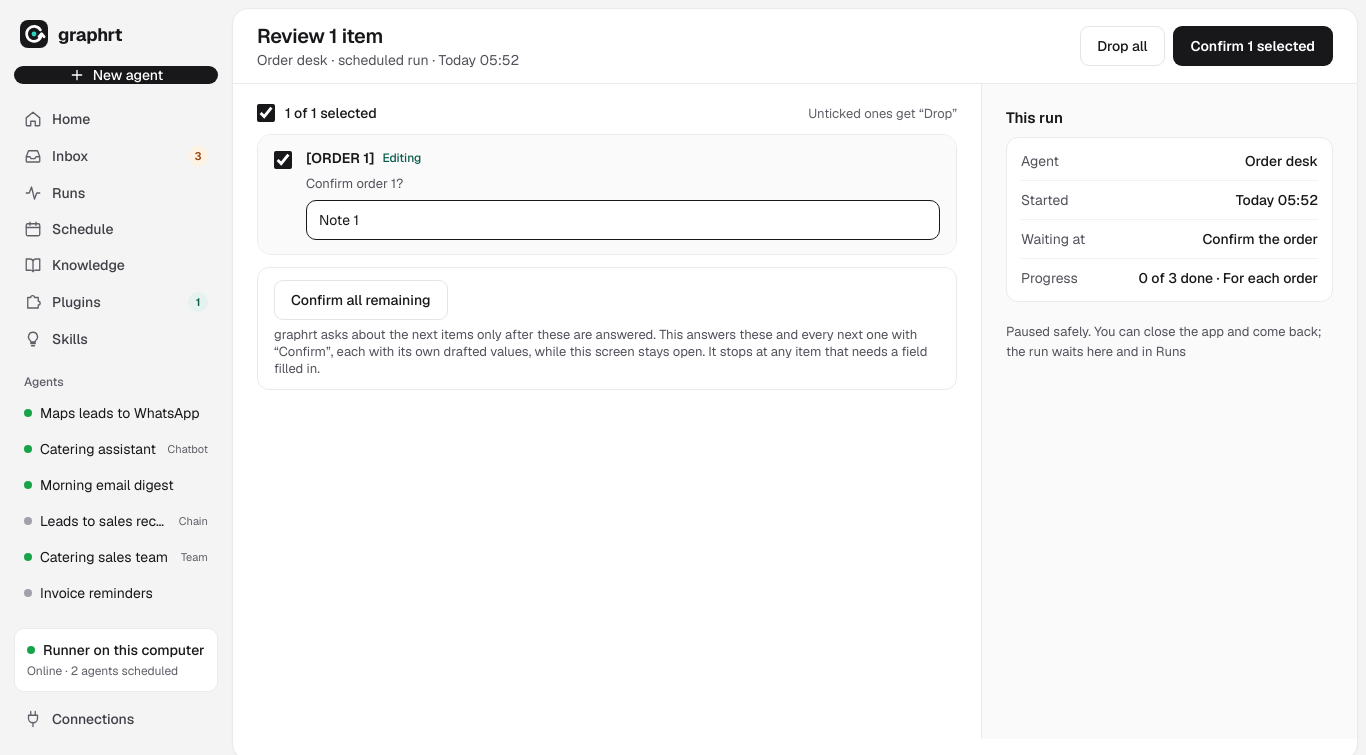
BatchApprovalPage › answers all remaining items one after another, labelled as such
The image size is (1366, 755).
Check: the text "graphrt asks about the next items only after these are answered" is shown, box [274,326,917,360]
Replace the text in the field named "Note for [ORDER 1]" with "Edited" at {"x": 623, "y": 220}, box [306,200,940,240]
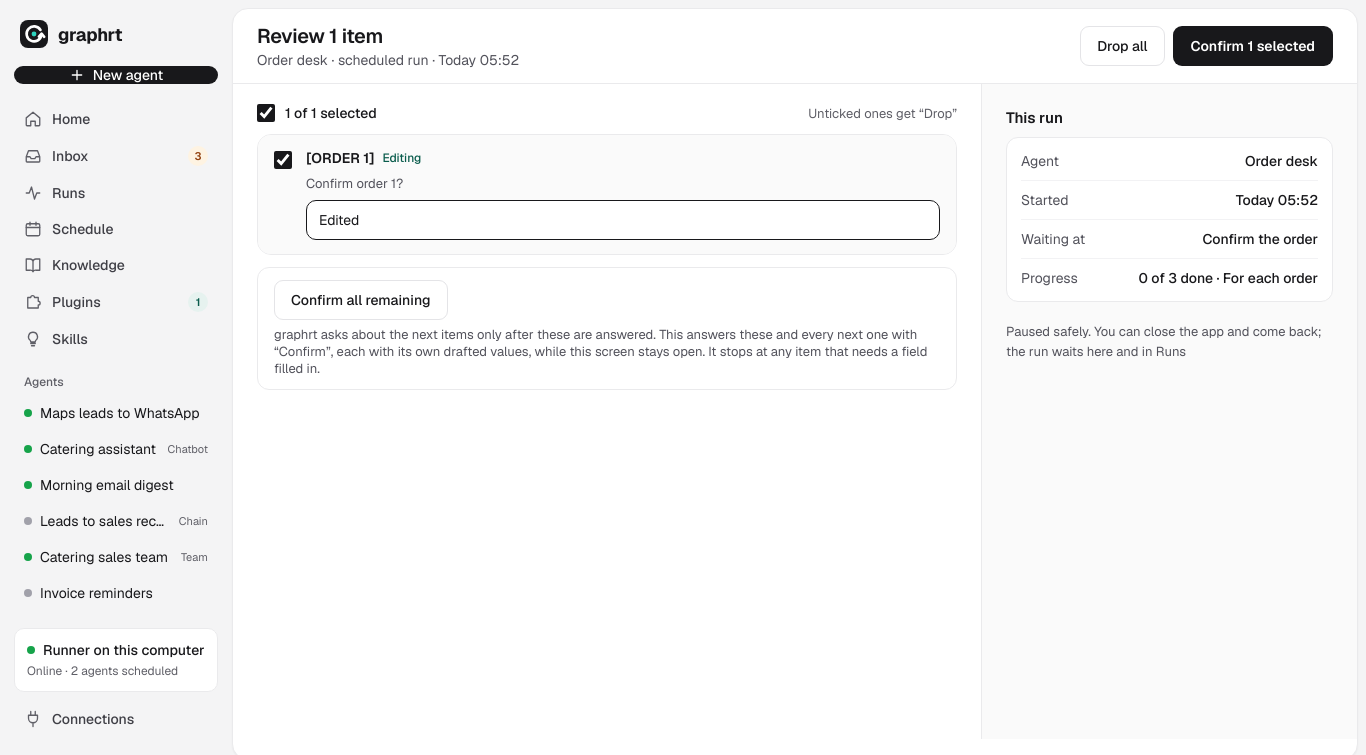
Click the button "Confirm all remaining" at {"x": 361, "y": 300}, box [274,280,448,320]
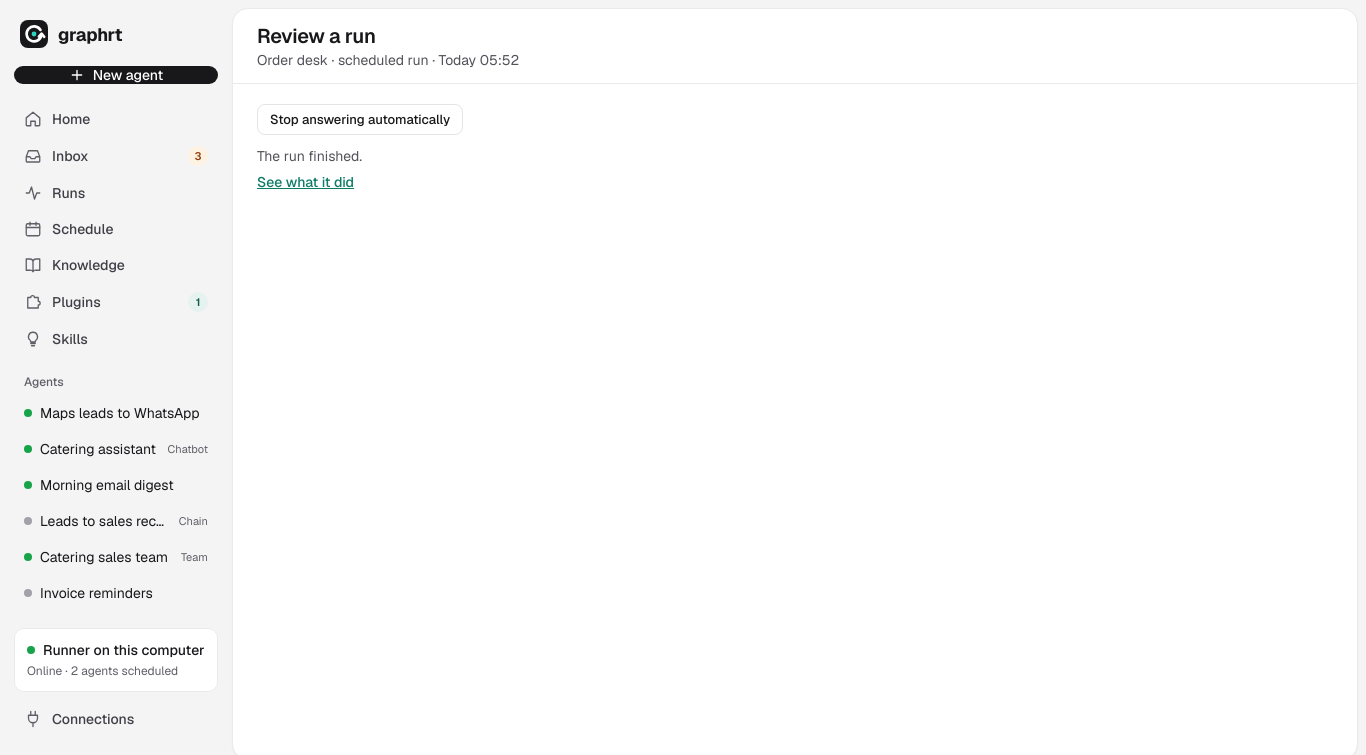
Check: the text "The run finished." is shown, box [257,147,362,165]
